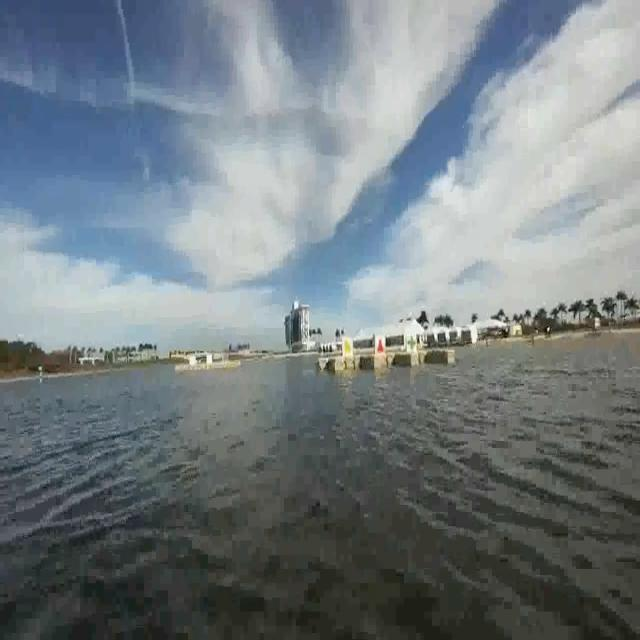blue-cross: (402, 326, 418, 351)
red-dot: (376, 333, 385, 351)
yellow-duck: (340, 334, 353, 356)
